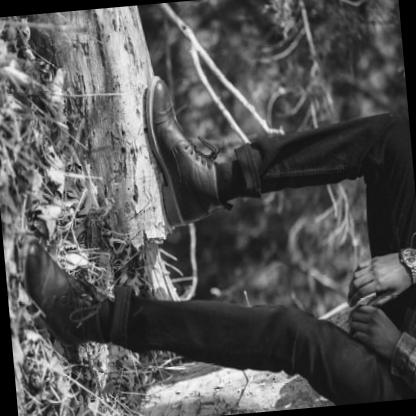ankle: (200, 189, 204, 194), (81, 328, 85, 332)
heel: (173, 218, 178, 224), (64, 342, 67, 346)
left_foot: (144, 73, 223, 228)
pinky: (32, 281, 37, 287), (166, 91, 168, 95)
right_foot: (21, 230, 105, 351)
toe: (37, 246, 40, 250), (158, 96, 160, 100)
